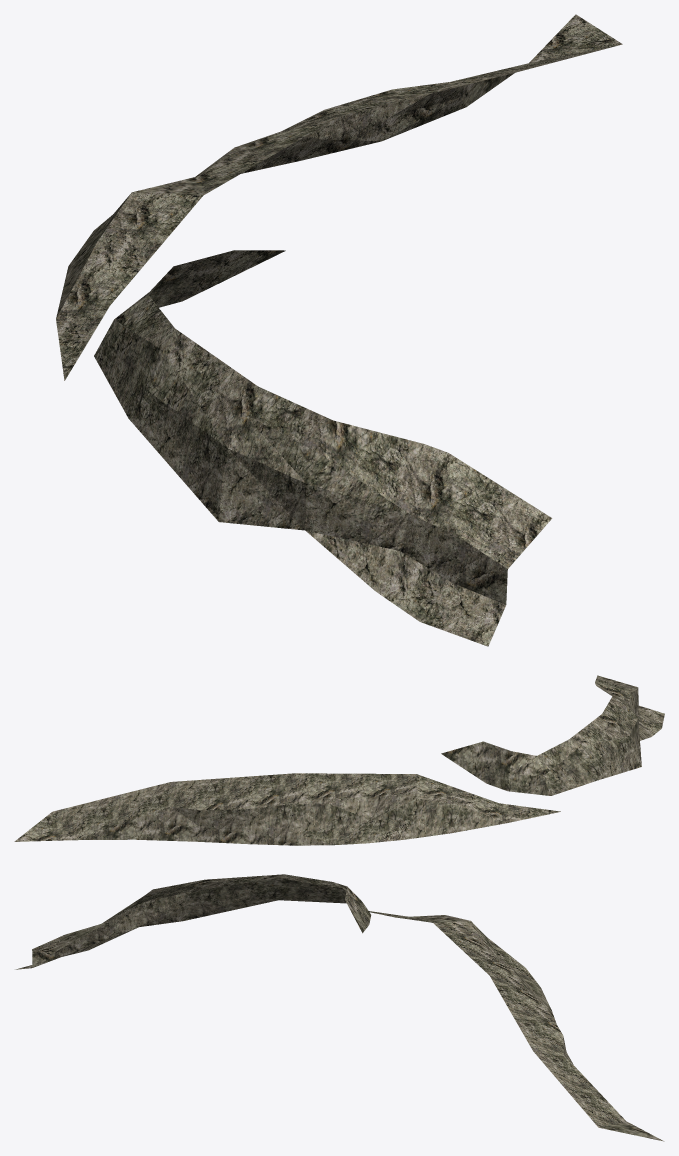
File: ce_groundpalo07a.obj
3 renders of one model, top to bottom at view 1: azimuth 30°, elevation 25°; view 2: azimuth 150°, elevation 25°; view 3: azimuth 270°, elevation 25°, orthographic. The views are drawn at different scales.
Parts seen in each view (by area): view 1: CE_groundPALO07A; view 2: CE_groundPALO07A; view 3: CE_groundPALO07A.
Boxes of the visible parts, box(x1,y1,x2,y2) form: CE_groundPALO07A: box(56, 14, 622, 646); CE_groundPALO07A: box(14, 675, 664, 845); CE_groundPALO07A: box(15, 874, 664, 1141).
Bounding box in the file's own units: 167 × 31.12 × 218.
1 material, 1 textured.
